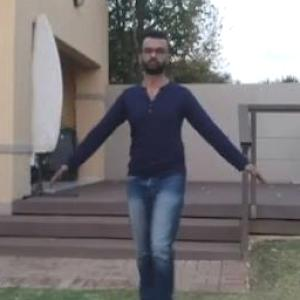land: (75, 42, 272, 299)
